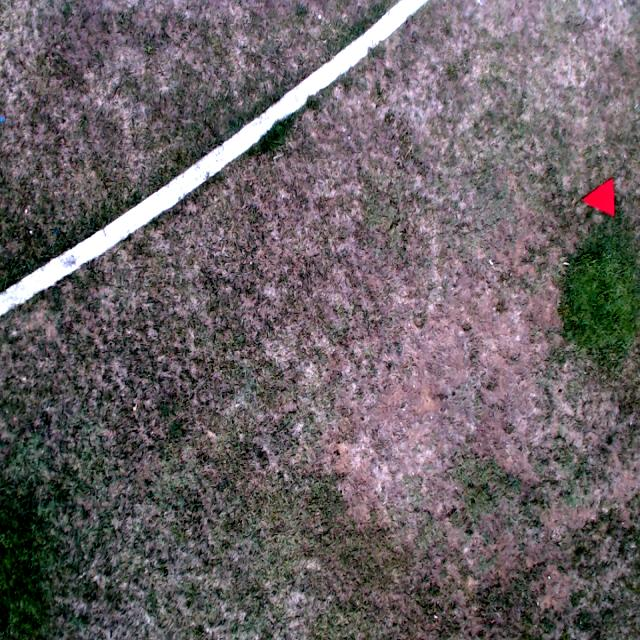red_triangle: (583, 181, 615, 216)
